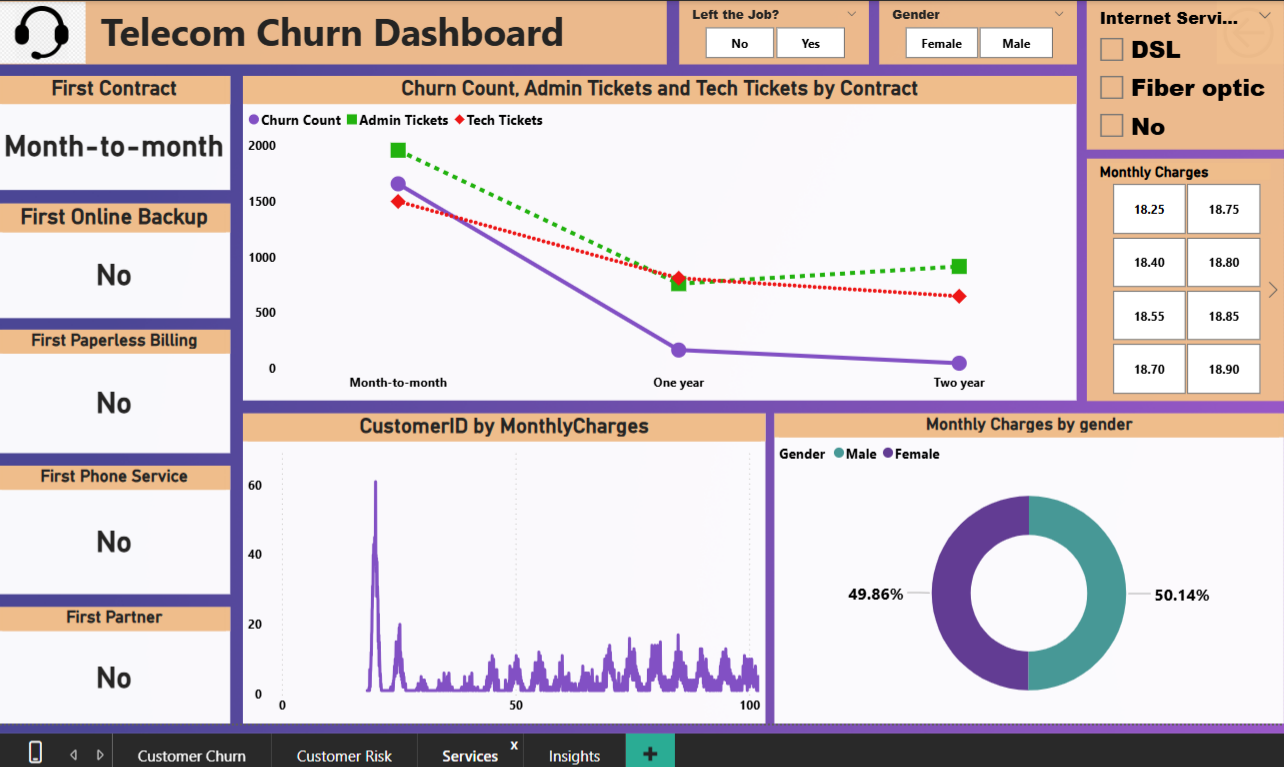

This screenshot's page, from the dashboard's own definition file:
{"tool":"powerbi","page":{"name":"Services","canvas":[1280,720],"ordinal":2},"visuals":[{"type":"textbox","box":[0,0,665.5,63.4],"z":0},{"type":"image","box":[0,0,87.1,63.4],"z":1000},{"type":"actionButton","box":[1212.9,0,67.2,63.4],"z":2000},{"type":"slicer","fields":{"Values":["Customer_Churn_Dataset.Churn"]},"box":[678,0,189.1,63.4],"z":3000},{"type":"slicer","fields":{"Values":["Customer_Churn_Dataset.gender"]},"box":[877,0,196.5,63.4],"z":4000},{"type":"slicer","fields":{"Values":["Customer_Churn_Dataset.InternetService"]},"box":[1083.5,0,196.5,148],"z":5000},{"type":"card","title":"First Contract","fields":{"Values":["Min(Customer_Churn_Dataset.Contract)"]},"box":[0,74.6,231.4,113.2],"z":6000},{"type":"card","title":"First Online Backup","fields":{"Values":["Min(Customer_Churn_Dataset.OnlineBackup)"]},"box":[0,201.5,231.4,114.4],"z":7000},{"type":"card","title":"First Paperless Billing","fields":{"Values":["Min(Customer_Churn_Dataset.PaperlessBilling)"]},"box":[0,327.2,231.4,123.2],"z":8000},{"type":"card","title":"First Phone Service","fields":{"Values":["Min(Customer_Churn_Dataset.PhoneService)"]},"box":[0,462.8,231.4,128.1],"z":9000},{"type":"card","title":"First Partner","fields":{"Values":["Min(Customer_Churn_Dataset.Partner)"]},"box":[0,603.3,231.4,116.9],"z":10000},{"type":"lineChart","fields":{"Y":["Customer_Churn_Dataset.Churn Count","Customer_Churn_Dataset.Admin Tickets","Customer_Churn_Dataset.Tech Tickets"],"Category":["Customer_Churn_Dataset.Contract"]},"box":[243.8,74.6,829.7,323.4],"z":11000},{"type":"lineChart","title":"CustomerID by MonthlyCharges","fields":{"Category":["Customer_Churn_Dataset.MonthlyCharges"],"Y":["CountNonNull(Customer_Churn_Dataset.customerID)"]},"box":[243.8,410.5,520,309.7],"z":12000},{"type":"donutChart","title":"Monthly Charges by gender","fields":{"Category":["Customer_Churn_Dataset.gender"],"Y":["Sum(Customer_Churn_Dataset.MonthlyCharges)"]},"box":[772.5,410.5,507.5,309.7],"z":13000},{"type":"slicer","fields":{"Values":["Customer_Churn_Dataset.MonthlyCharges"]},"box":[1083.5,156.7,196.5,241.3],"z":14000}]}

Visuals, with their boxes on the page's 1280x720 design canvas (x1, y1, x2, y2). These are canvas units, not pixel positions in the 1284x767 screenshot, which may show the page scaled, cropped or inside an application window:
textbox: box=[0, 0, 666, 63]
image: box=[0, 0, 87, 63]
actionButton: box=[1213, 0, 1280, 63]
slicer - Customer_Churn_Dataset.Churn: box=[678, 0, 867, 63]
slicer - Customer_Churn_Dataset.gender: box=[877, 0, 1074, 63]
slicer - Customer_Churn_Dataset.InternetService: box=[1084, 0, 1280, 148]
"First Contract" card: box=[0, 75, 231, 188]
"First Online Backup" card: box=[0, 202, 231, 316]
"First Paperless Billing" card: box=[0, 327, 231, 450]
"First Phone Service" card: box=[0, 463, 231, 591]
"First Partner" card: box=[0, 603, 231, 720]
lineChart - Customer_Churn_Dataset.Churn Count x Customer_Churn_Dataset.Admin Tickets: box=[244, 75, 1074, 398]
"CustomerID by MonthlyCharges" lineChart: box=[244, 410, 764, 720]
"Monthly Charges by gender" donutChart: box=[772, 410, 1280, 720]
slicer - Customer_Churn_Dataset.MonthlyCharges: box=[1084, 157, 1280, 398]
